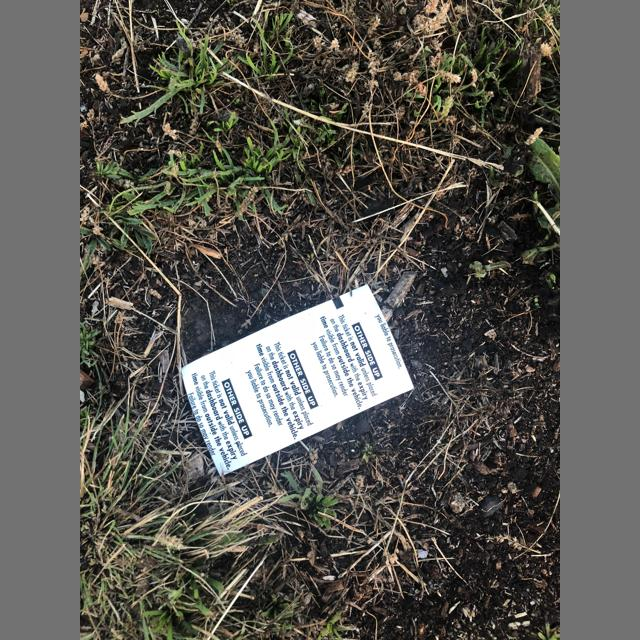litter: (181, 284, 414, 477)
